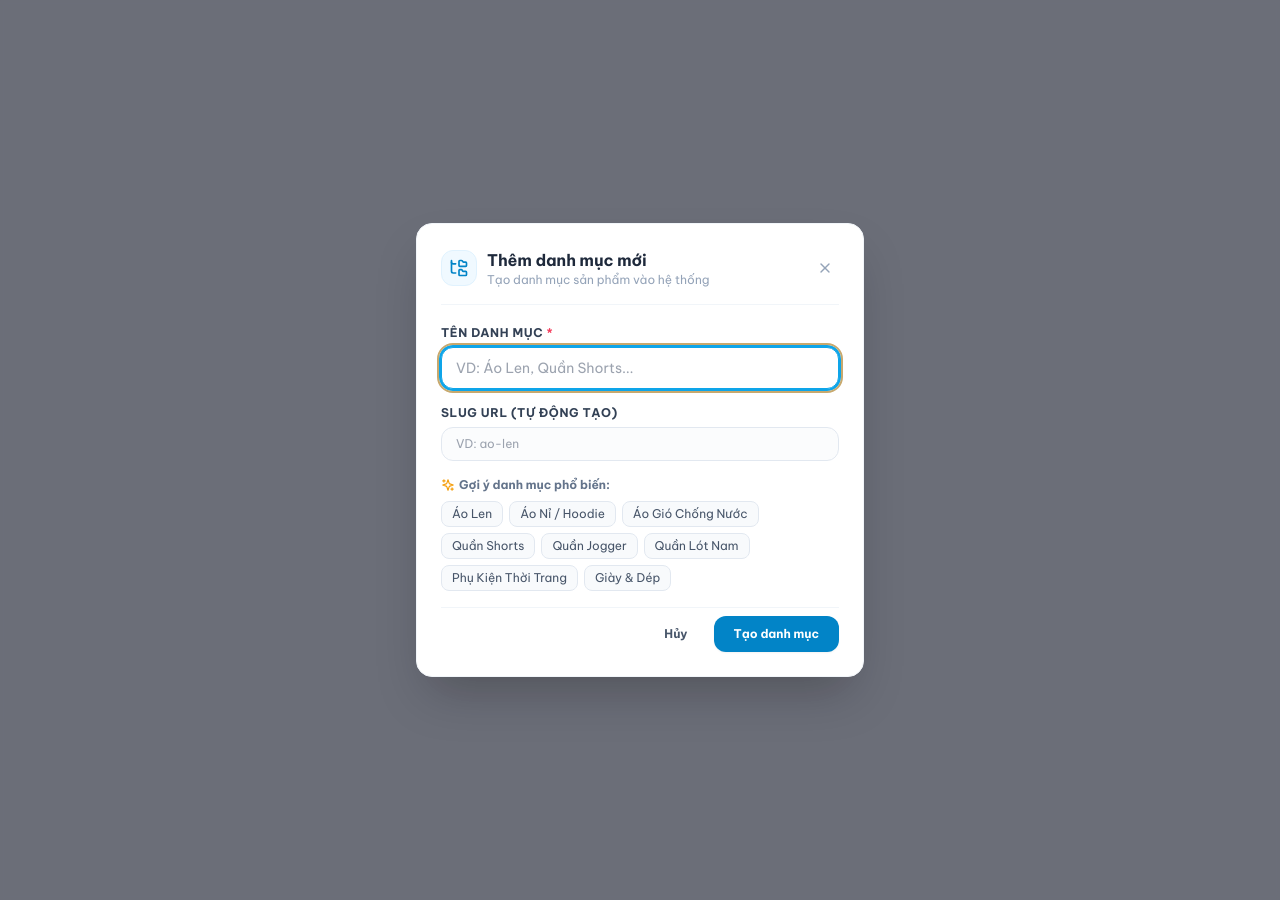
Test: QuickAddCategoryModal Component › Tự động gợi ý slug chuẩn SEO khi nhập tên danh mục tiếng Việt
The image size is (1280, 900).
Type "Áo Khoác Gió" into the field with placeholder "VD: Áo Len, Quần Shorts..." at (640, 368), box [441,347,839,389]
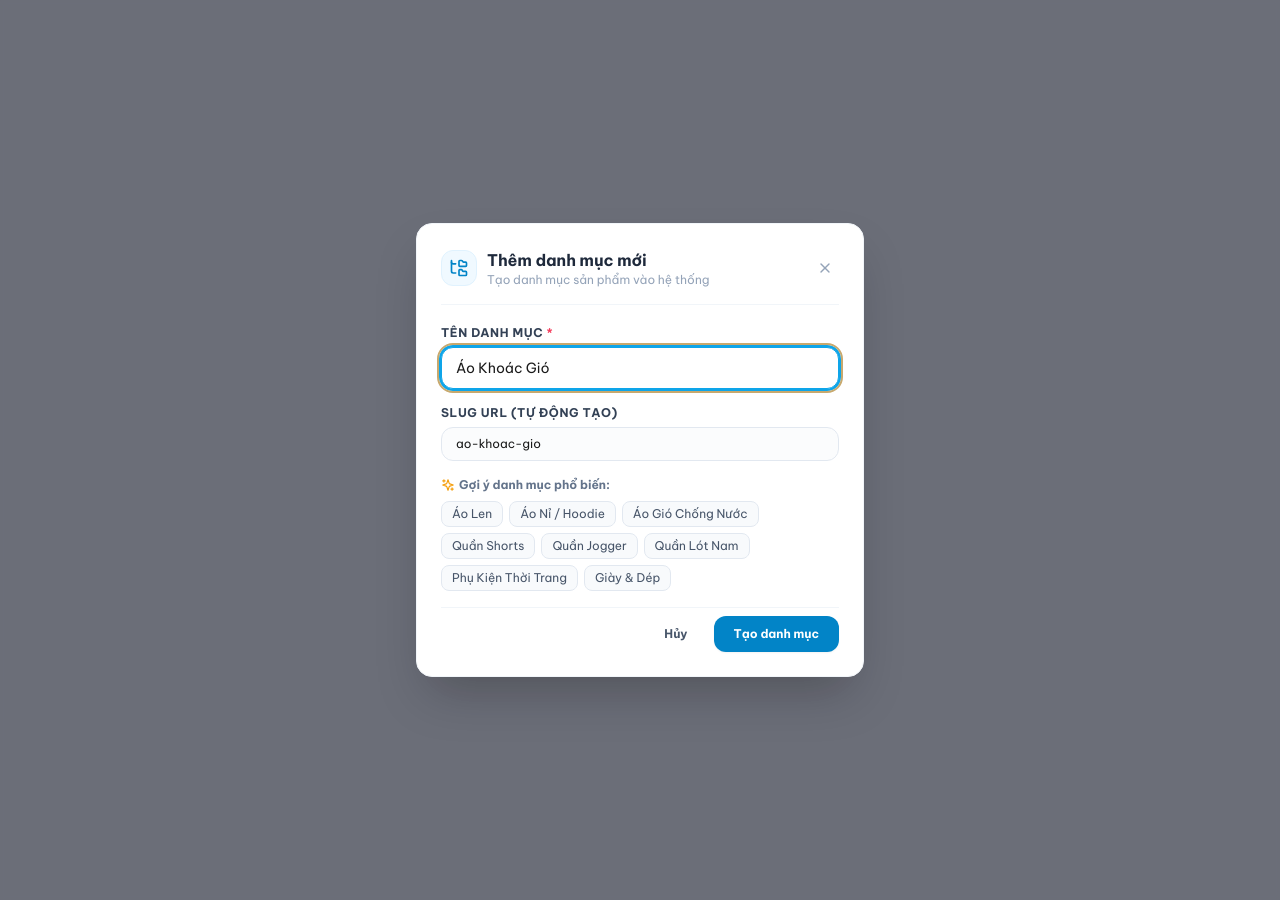
Now the field with placeholder "VD: ao-len" below "Slug URL (Tự động tạo)" holds "ao-khoac-gio", box [441,427,839,461]
